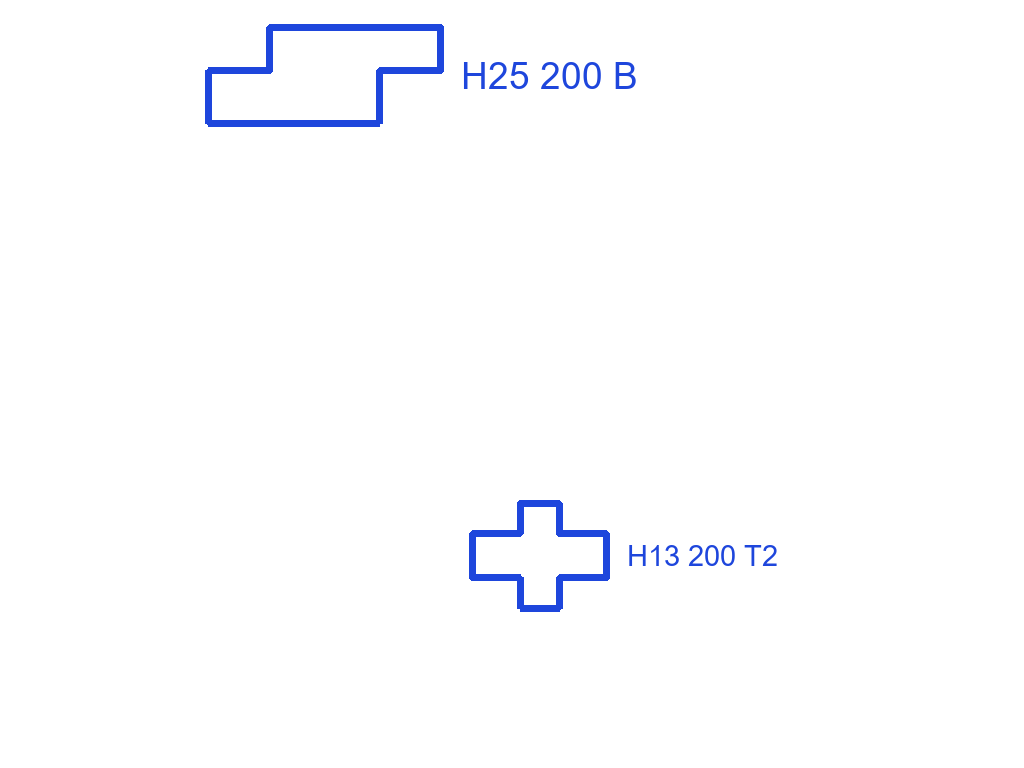shape: (203, 22, 446, 129), (467, 498, 612, 614)
text: (459, 60, 640, 91), (625, 543, 780, 568)
